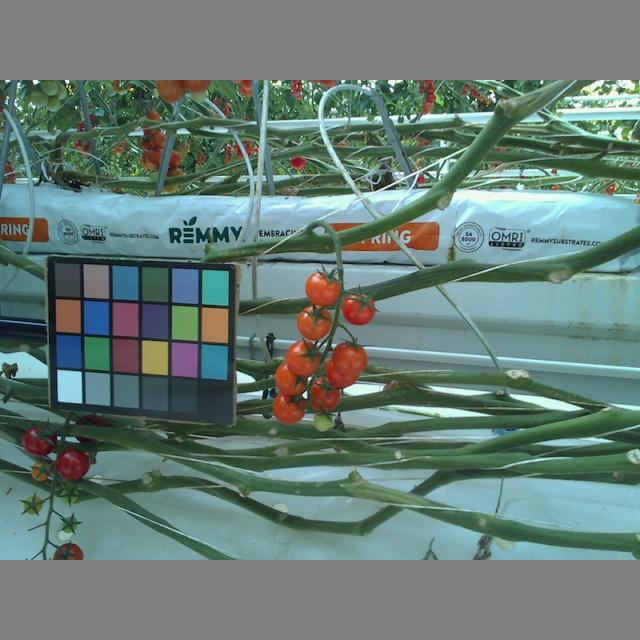green: (310, 408, 335, 432), (21, 493, 43, 516), (59, 486, 80, 502), (59, 517, 81, 532)
pink: (295, 304, 333, 339), (305, 272, 343, 306), (272, 361, 310, 395), (332, 341, 370, 375), (285, 342, 321, 377), (273, 391, 307, 424), (323, 357, 358, 389)
red: (21, 425, 56, 459), (56, 447, 91, 481), (340, 295, 376, 325)
